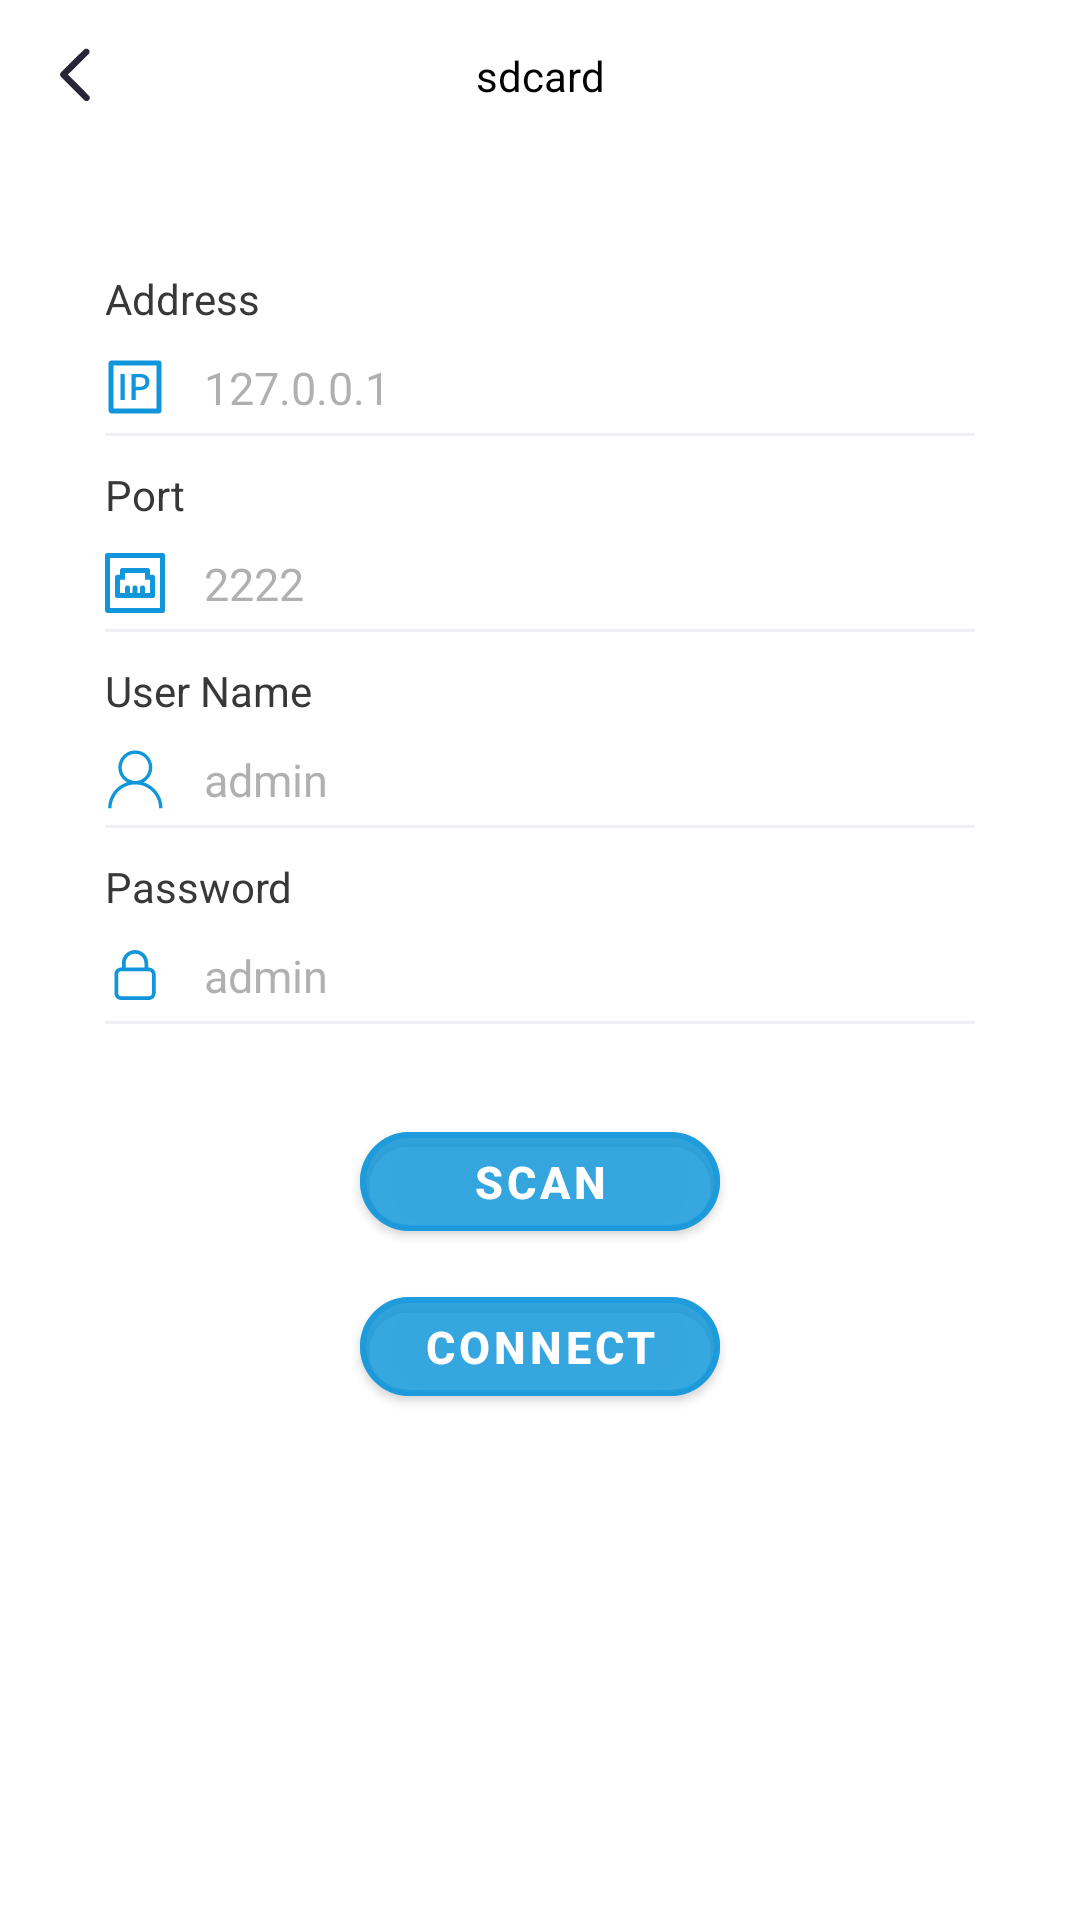

Named icons in this screenshot (1080x1920) and their centers, point (x, y):
left: point (75, 74)
